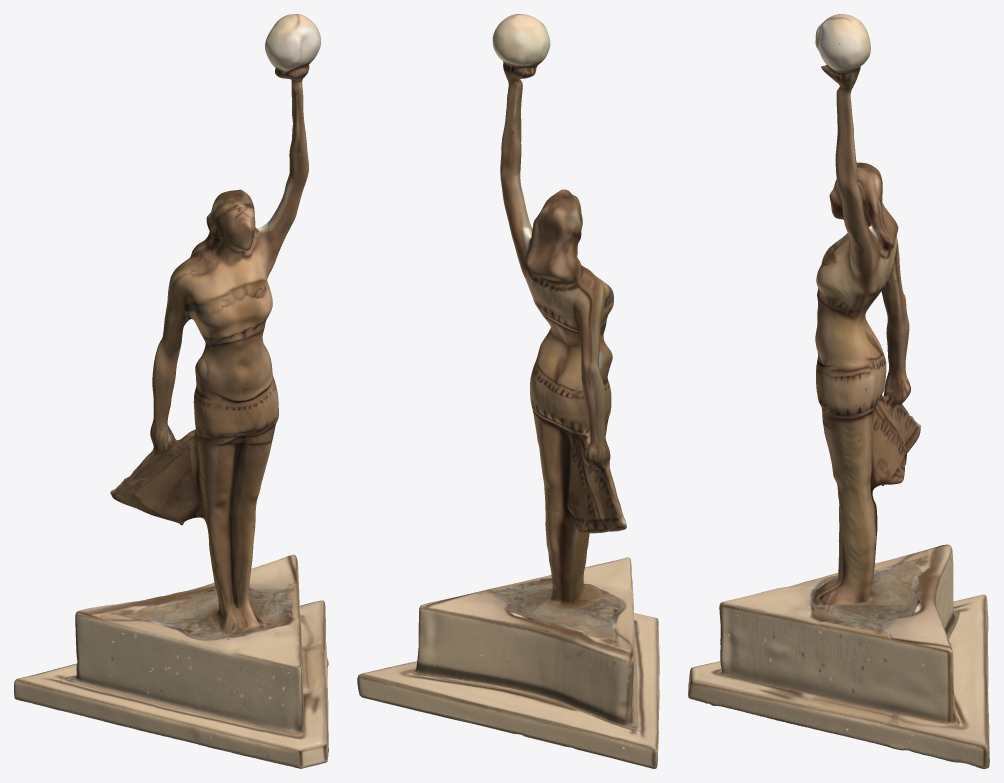
Rendered from checkpoint0.glb.
3 renders of one model, left to right at view 1: azimuth 30°, elevation 25°; view 2: azimuth 150°, elevation 25°; view 3: azimuth 270°, elevation 25°, orthographic. The views are drawn at different scales.
Bounding box in the file's own units: 0.9567 × 2 × 0.7767.
Materials: 1 (1 with a texture image).
